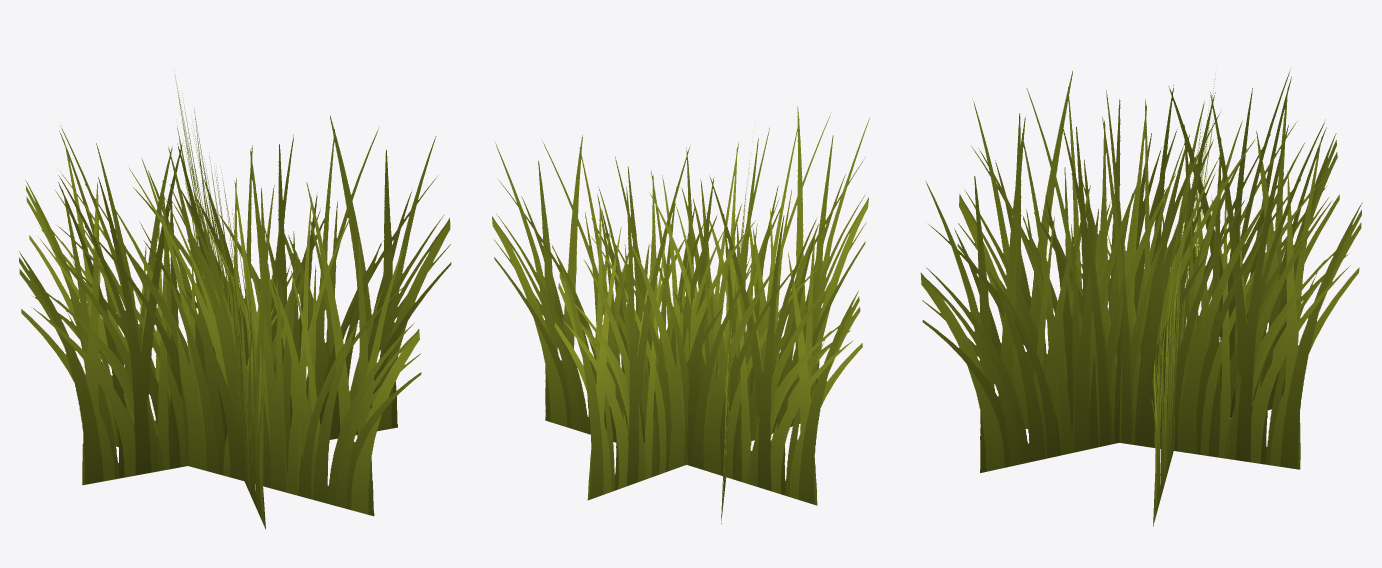
The model's file is grass_2_burnt1.glb.
3 renders of one model, left to right at view 1: azimuth 30°, elevation 25°; view 2: azimuth 150°, elevation 25°; view 3: azimuth 270°, elevation 25°, orthographic. The views are drawn at different scales.
Visible parts, largest first — view 1: grass_2_burnt1; view 2: grass_2_burnt1; view 3: grass_2_burnt1.
Boxes of the visible parts, bbox=[...] form: grass_2_burnt1: bbox=[19, 76, 451, 529]; grass_2_burnt1: bbox=[492, 106, 869, 523]; grass_2_burnt1: bbox=[920, 69, 1362, 526].
Bounding box in the file's own units: 0.5812 × 0.5055 × 0.5576.
Materials: 1 (1 with a texture image).
